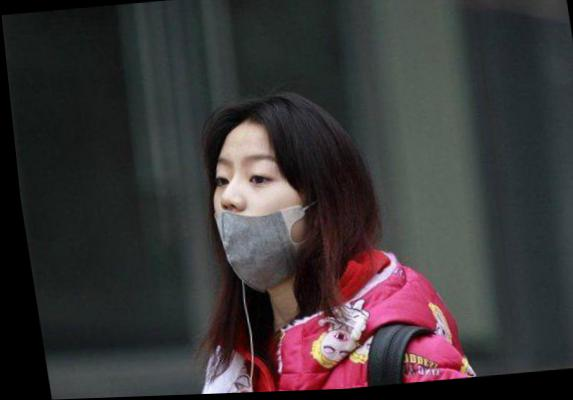WRONG: (198, 141, 313, 287)
